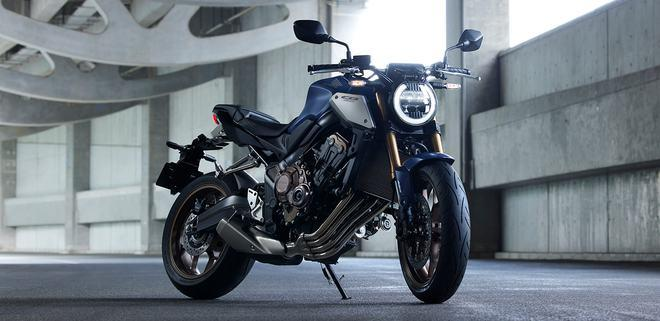摩托车: (154, 18, 491, 315)
